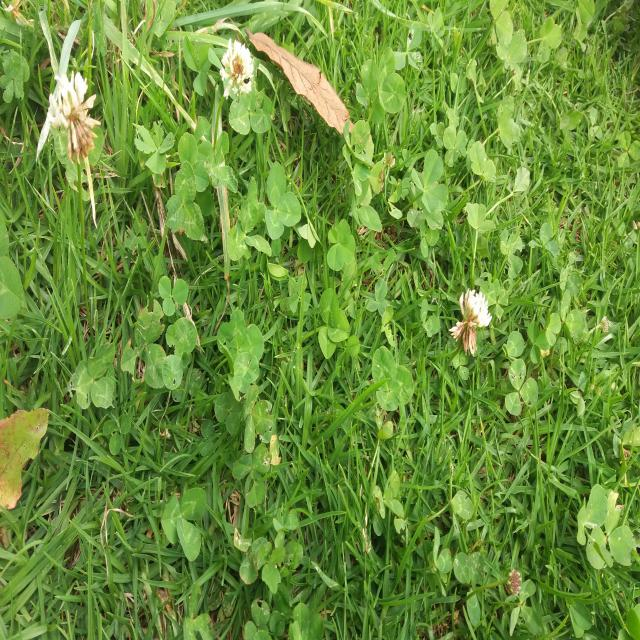Four Leaf Clover: (411, 150, 447, 214), (134, 119, 175, 174), (327, 219, 355, 271)
